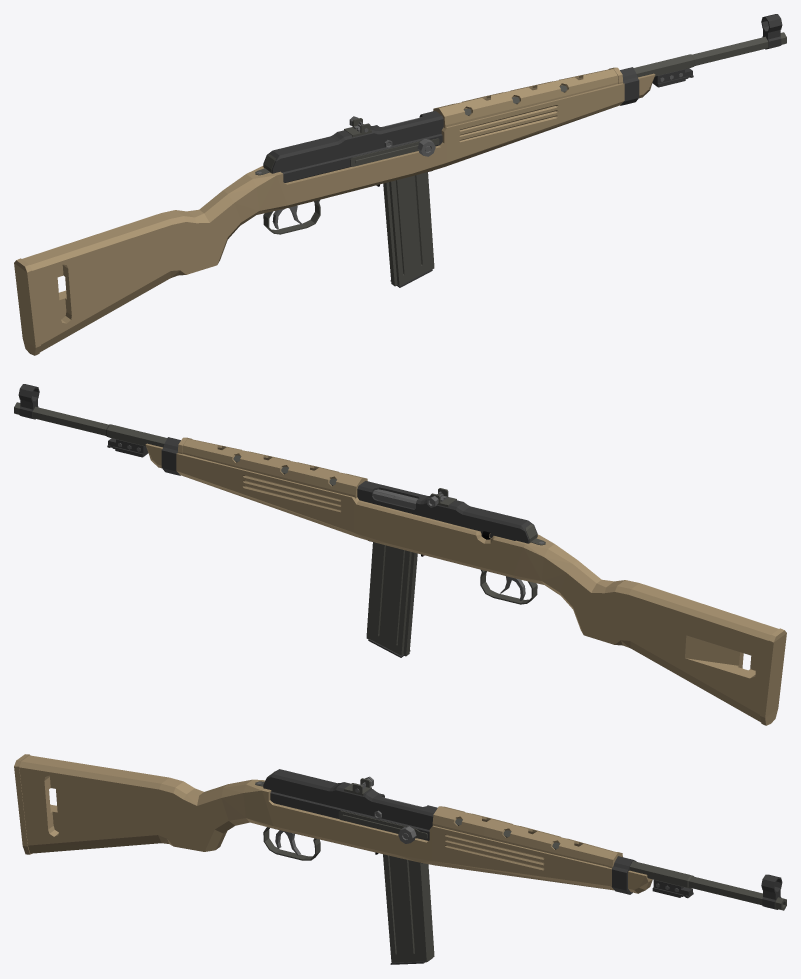
File: Beretta 57.fbx
3 views of the same model, one above another, from view 1: azimuth 30°, elevation 25°; view 2: azimuth 150°, elevation 25°; view 3: azimuth 330°, elevation 25° (orthographic).
Parts seen in each view (by area): view 1: Beretta 57, Beretta 57 Mag; view 2: Beretta 57, Beretta 57 Mag; view 3: Beretta 57, Beretta 57 Mag.
Boxes of the visible parts, x1,y1,x2,y2 form: Beretta 57: (14,14,786,355); Beretta 57 Mag: (383,172,434,287); Beretta 57: (14,384,786,725); Beretta 57 Mag: (366,542,417,657); Beretta 57: (14,754,786,910); Beretta 57 Mag: (383,854,434,964).
Bounding box in the file's own units: 492 × 109 × 21.91.
